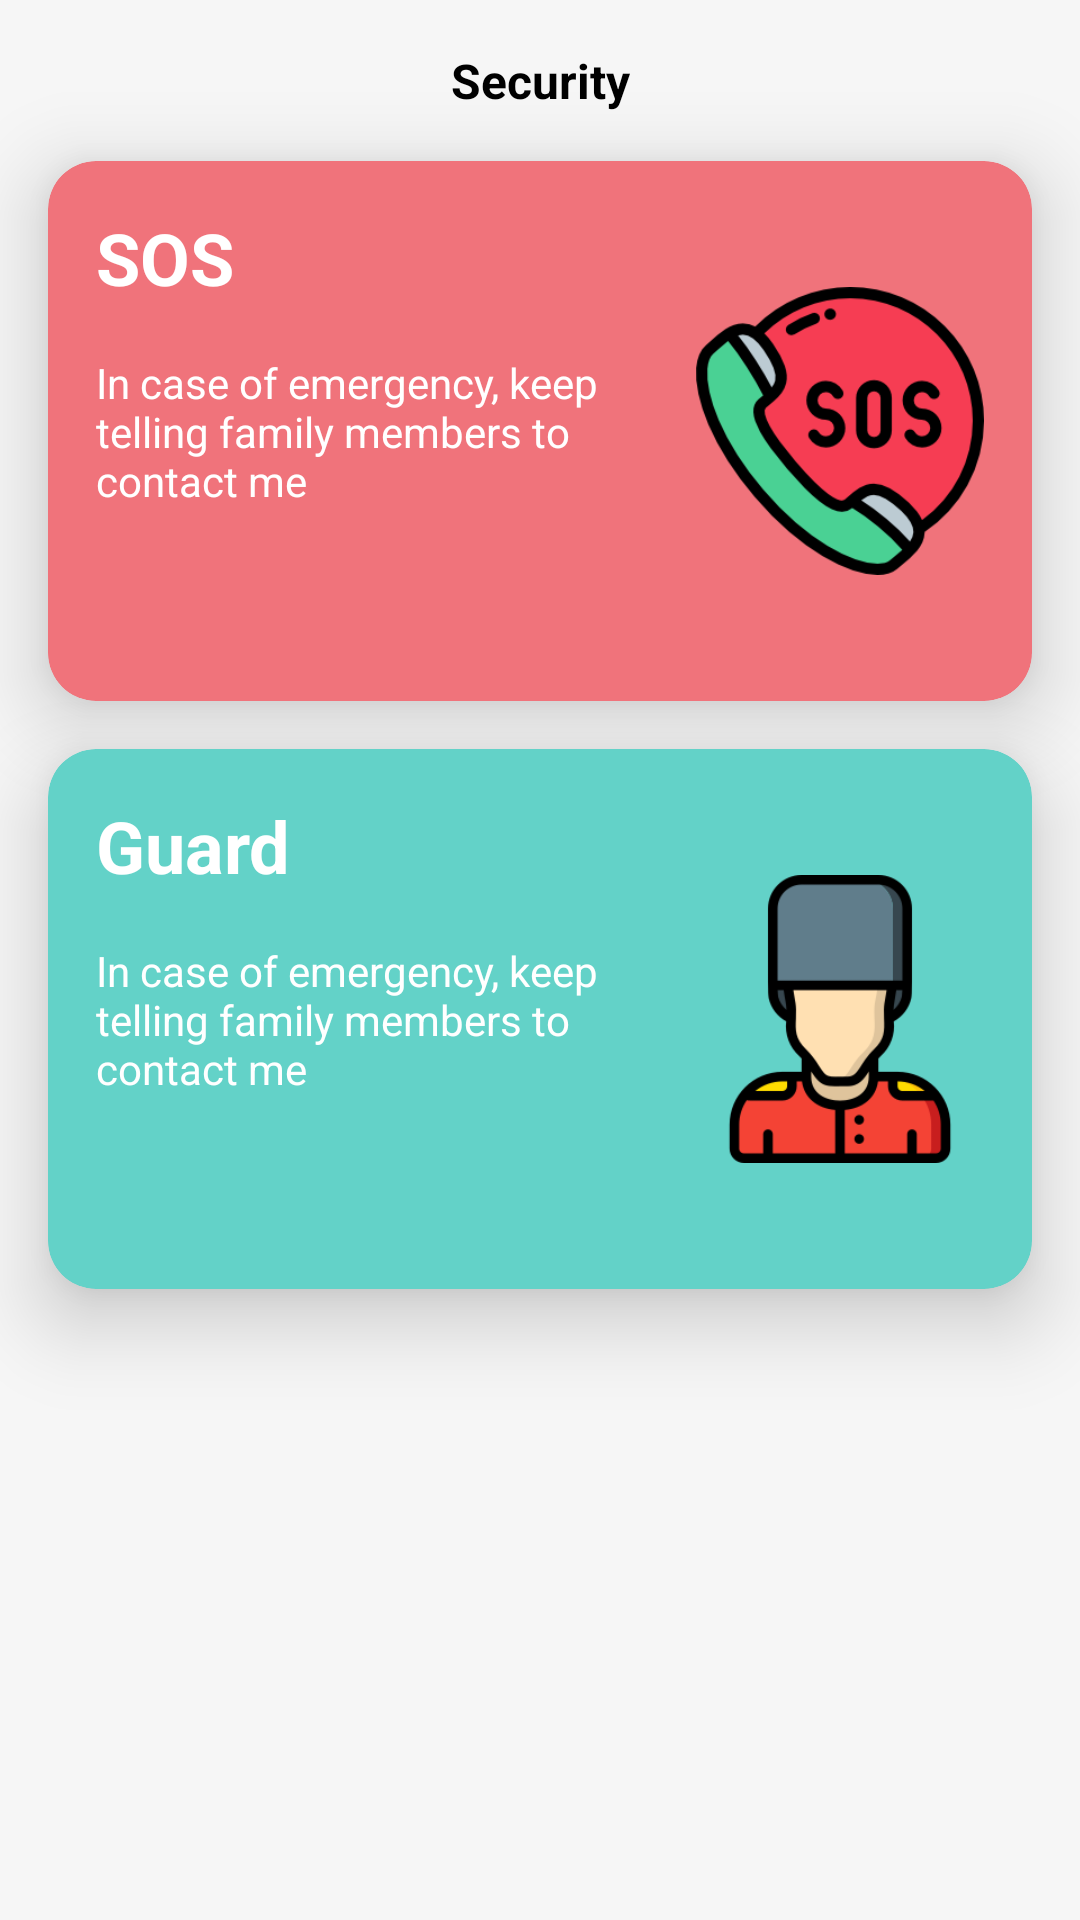

Named icons in this screenshot (1080px x 1920px) and their centers, (x,y):
guard: (840,1019)
